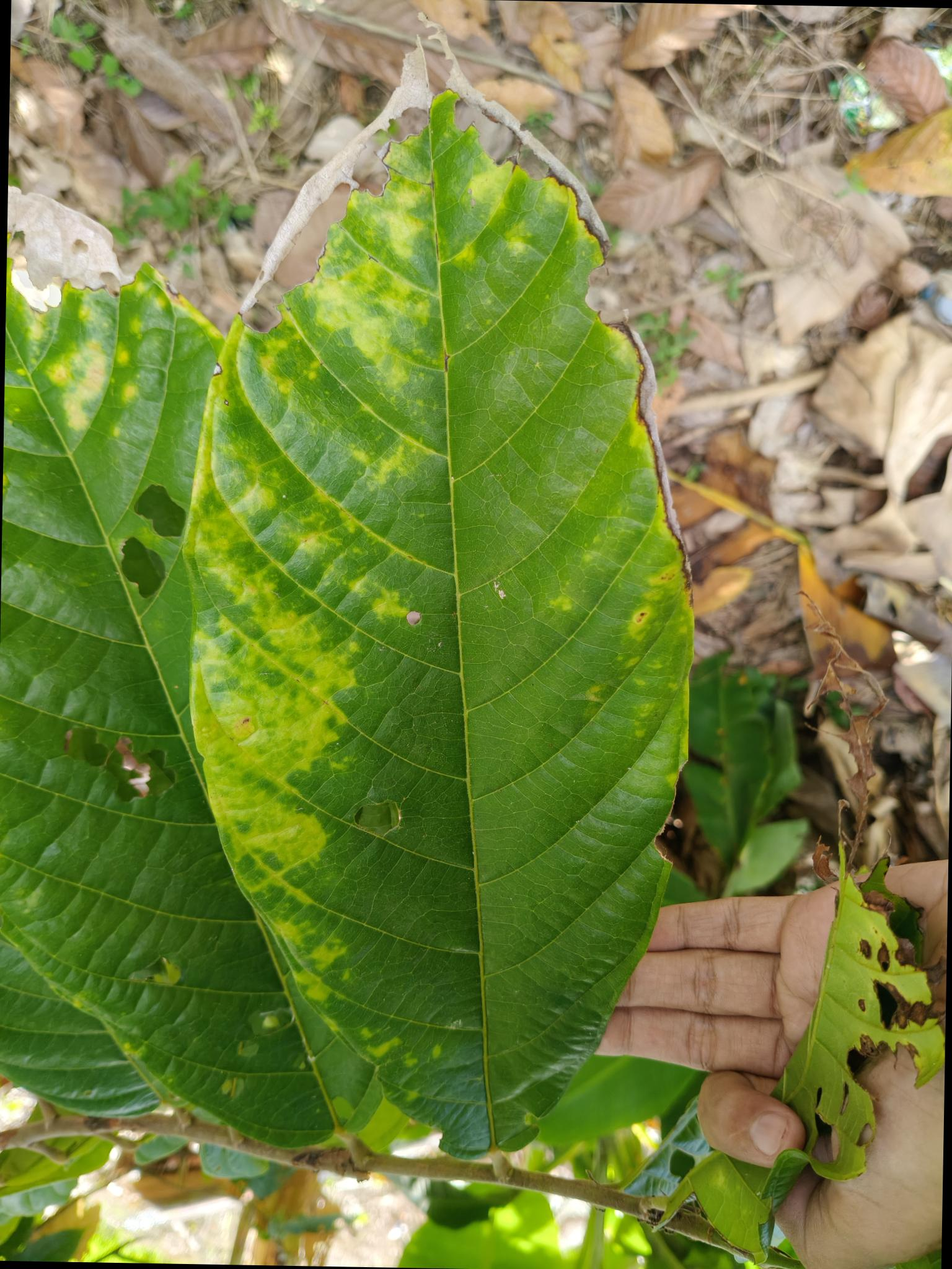Fosforo: (193, 41, 712, 1133)
